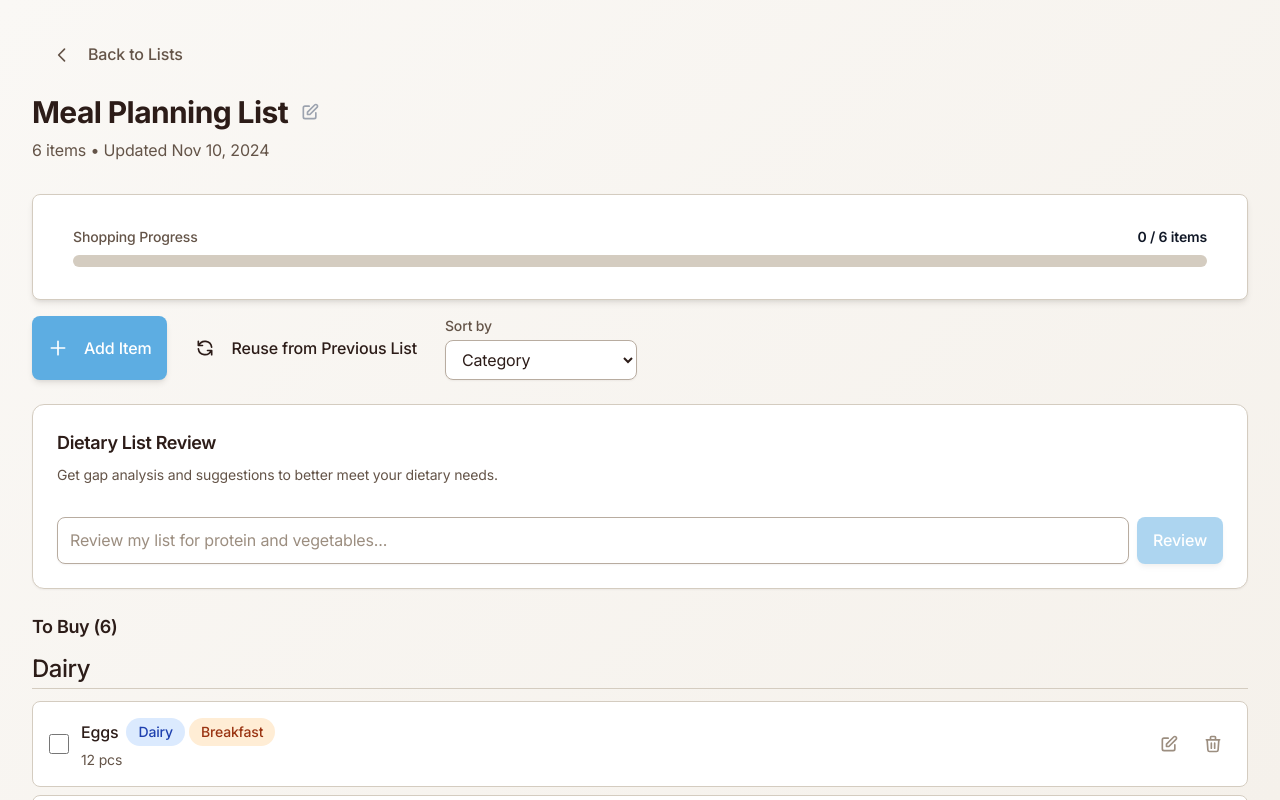
it: GroceryListDetailPage - Meal-Based Sorting › should handle adding items with meal types
The image size is (1280, 800).
Expected: the heading "Meal Planning List" is shown, [32,94,288,130]
# Open add item modal
Step 1. Click the button "Add Item" → [100, 348], box [32,316,168,380]
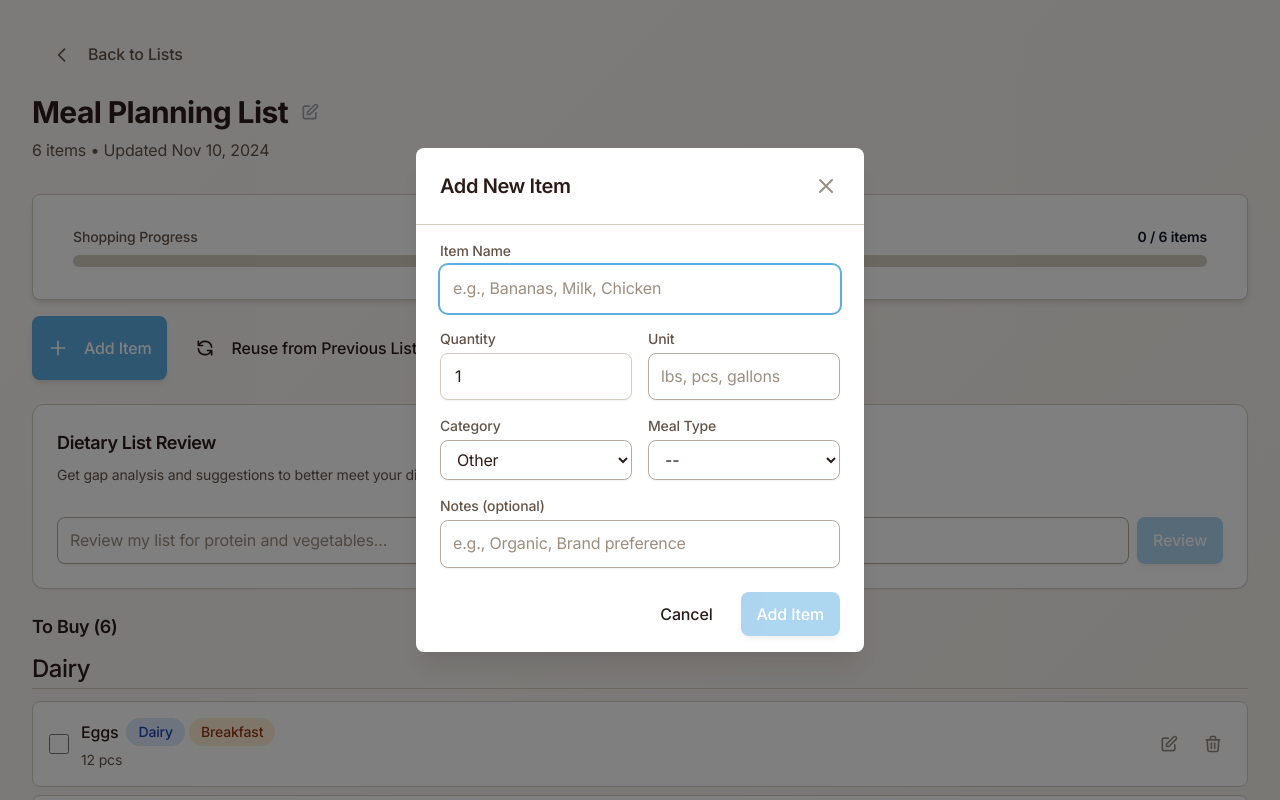
Expected: the heading "Add New Item" is shown, [440,172,570,200]
Expected: the text "Meal Type" is shown, [648,417,716,434]
Expected: the dropdown labelled "Meal Type" shows "--", [648,440,840,480]
